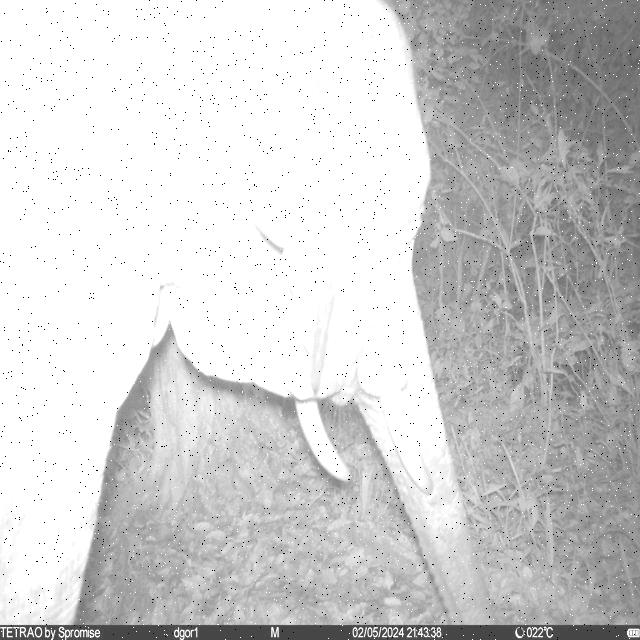ear: (185, 2, 344, 398)
elephant: (1, 0, 498, 626)
tusk: (379, 390, 436, 498), (296, 394, 355, 482)
